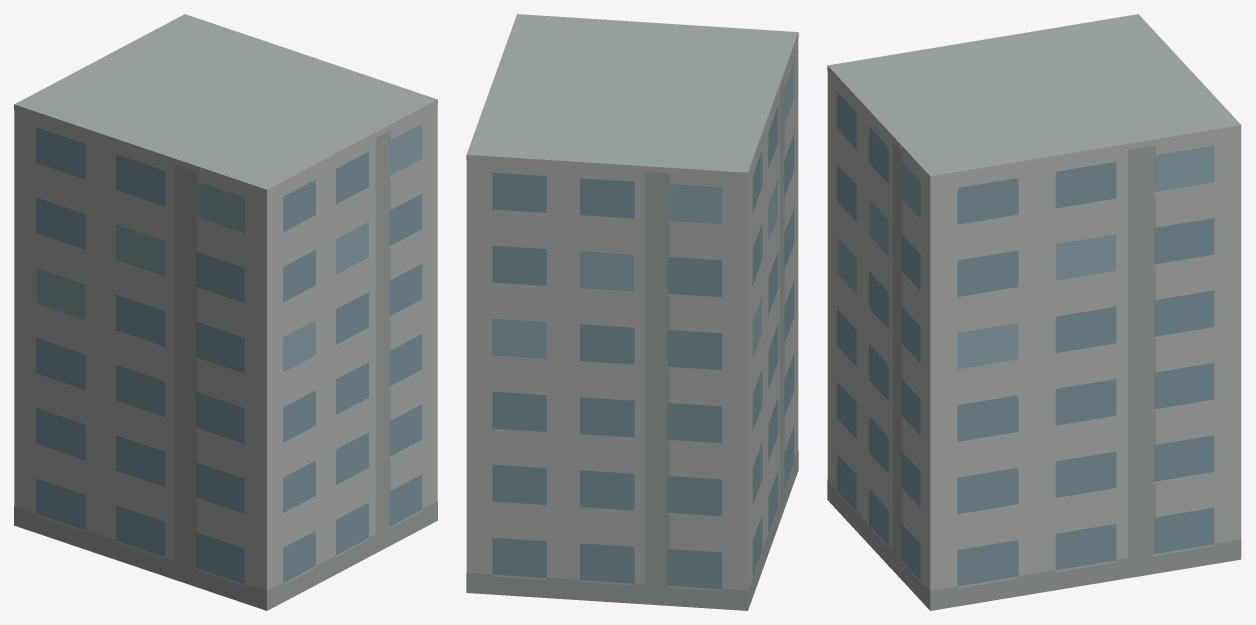
Rendered from residential-f726a825-64d6-446e-8ddf-4520ef0d4d24.glb.
3 renders of one model, left to right at view 1: azimuth 30°, elevation 25°; view 2: azimuth 150°, elevation 25°; view 3: azimuth 270°, elevation 25°, orthographic. The views are drawn at different scales.
Parts seen in each view (by area): view 1: residential-f726a825-64d6-446e-8ddf-4520ef0d4d24.tmp; view 2: residential-f726a825-64d6-446e-8ddf-4520ef0d4d24.tmp; view 3: residential-f726a825-64d6-446e-8ddf-4520ef0d4d24.tmp.
Boxes of the visible parts, bbox=[...] form: residential-f726a825-64d6-446e-8ddf-4520ef0d4d24.tmp: bbox=[14, 14, 437, 610]; residential-f726a825-64d6-446e-8ddf-4520ef0d4d24.tmp: bbox=[466, 14, 798, 610]; residential-f726a825-64d6-446e-8ddf-4520ef0d4d24.tmp: bbox=[827, 14, 1241, 610].
Bounding box in the file's own units: 14.44 × 18 × 15.55.
